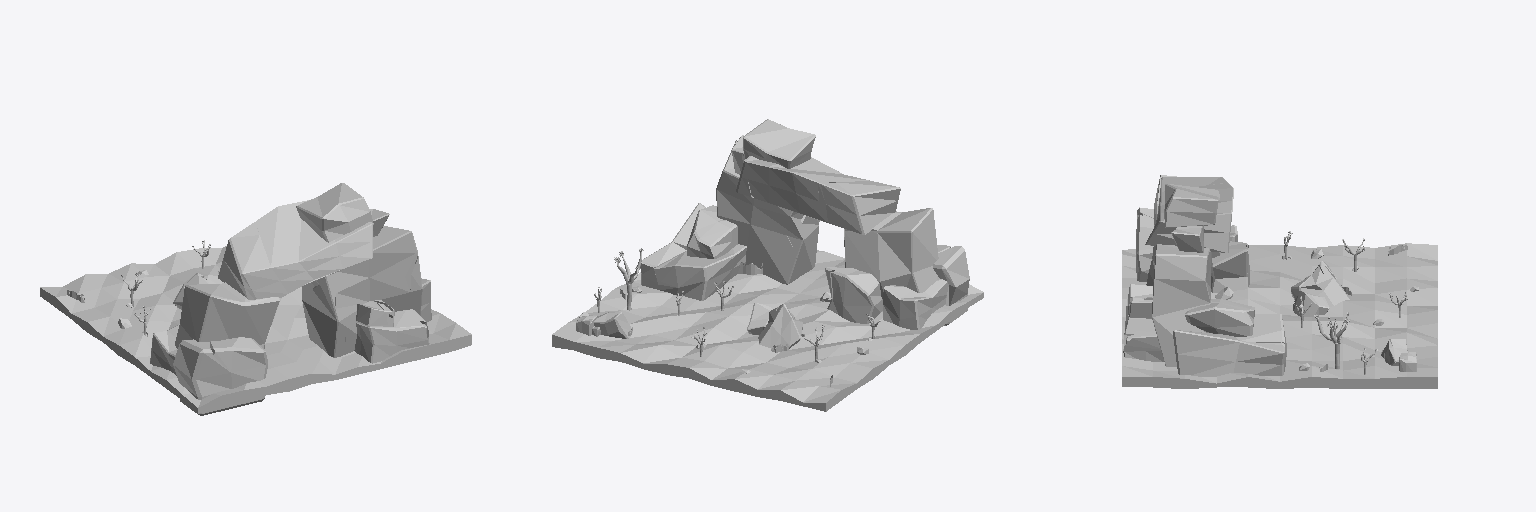
Rendered from sandislandfinal.obj.
3 renders of one model, left to right at view 1: azimuth 30°, elevation 25°; view 2: azimuth 150°, elevation 25°; view 3: azimuth 270°, elevation 25°, orthographic.
Parts seen in each view (by area): view 1: Cube, Cube.004, Cube.001, Cube.002, Cube.005, Cube.009, Cube.008, Cube.010; view 2: Cube, Cube.004, Cube.001, Cube.002, Cube.003, Cube.011, Cube.008, Cube.010, Cube.007, Cube.005, Cube.045, Cube.041 (+1 smaller); view 3: Cube, Cube.003, Cube.001, Cube.004, Cube.009, Cube.008, Cube.007, Cube.011, Cube.045, Cube.005, Cube.006, Cube.044.
Boxes of the visible parts, <box> form: Cube: <box>40,246,471,413</box>; Cube.004: <box>218,200,373,299</box>; Cube.001: <box>302,226,422,357</box>; Cube.002: <box>175,282,279,348</box>; Cube.005: <box>173,337,267,415</box>; Cube.009: <box>354,300,429,363</box>; Cube.008: <box>296,183,373,242</box>; Cube.010: <box>150,324,179,375</box>; Cube: <box>552,250,983,411</box>; Cube.004: <box>736,156,900,234</box>; Cube.001: <box>716,140,819,284</box>; Cube.002: <box>844,208,939,298</box>; Cube.003: <box>640,203,746,300</box>; Cube.011: <box>825,267,882,323</box>; Cube.008: <box>743,119,815,168</box>; Cube.010: <box>883,279,947,329</box>; Cube.007: <box>687,205,737,258</box>; Cube.005: <box>933,245,969,325</box>; Cube.045: <box>758,304,802,348</box>; Cube.041: <box>594,312,632,338</box>; Cube: <box>1122,243,1437,388</box>; Cube.003: <box>1173,314,1286,376</box>; Cube.001: <box>1146,244,1211,366</box>; Cube.004: <box>1145,177,1233,252</box>; Cube.009: <box>1123,284,1163,361</box>; Cube.008: <box>1164,184,1219,227</box>; Cube.007: <box>1185,299,1254,336</box>; Cube.011: <box>1211,241,1249,292</box>; Cube.045: <box>1291,261,1349,306</box>; Cube.005: <box>1136,207,1153,281</box>; Cube.006: <box>1171,225,1203,252</box>; Cube.044: <box>1293,291,1329,316</box>.
Bounding box in the file's own units: 42.28 × 24.98 × 42.28.